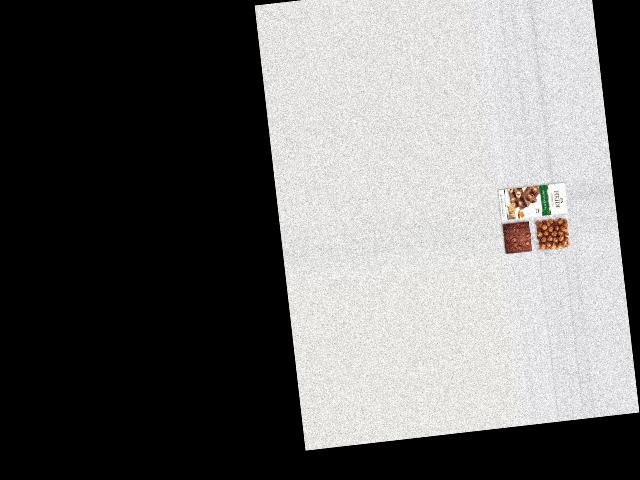chocolate: (500, 219, 533, 257)
